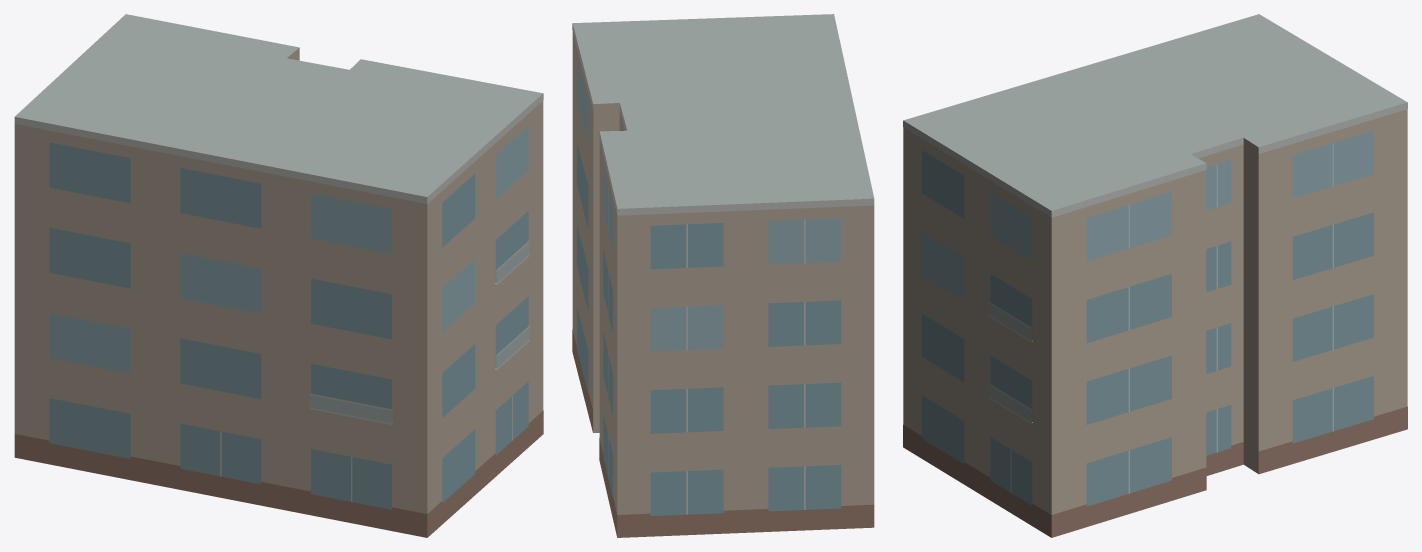
Rendered from survey-upis-32815646.glb.
The picture shows the model from 3 angles, left to right: view 1: azimuth 30°, elevation 25°; view 2: azimuth 150°, elevation 25°; view 3: azimuth 270°, elevation 25°; orthographic projection. The views are drawn at different scales.
Parts seen in each view (by area): view 1: survey-upis-32815646.tmp; view 2: survey-upis-32815646.tmp; view 3: survey-upis-32815646.tmp.
Boxes of the visible parts, x1,y1,x2,y2 form: survey-upis-32815646.tmp: [14, 14, 543, 537]; survey-upis-32815646.tmp: [572, 14, 874, 537]; survey-upis-32815646.tmp: [903, 14, 1407, 537].
Bounding box in the file's own units: 15.19 × 11.75 × 16.44.
